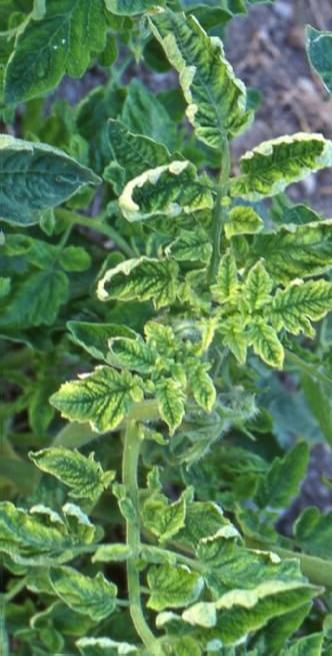Tomato leaf yellow virus: (131, 0, 250, 149), (229, 130, 332, 211), (44, 361, 147, 435), (114, 159, 209, 218), (21, 446, 110, 504), (261, 269, 332, 334), (93, 257, 179, 309), (138, 559, 205, 615), (238, 258, 278, 312)
